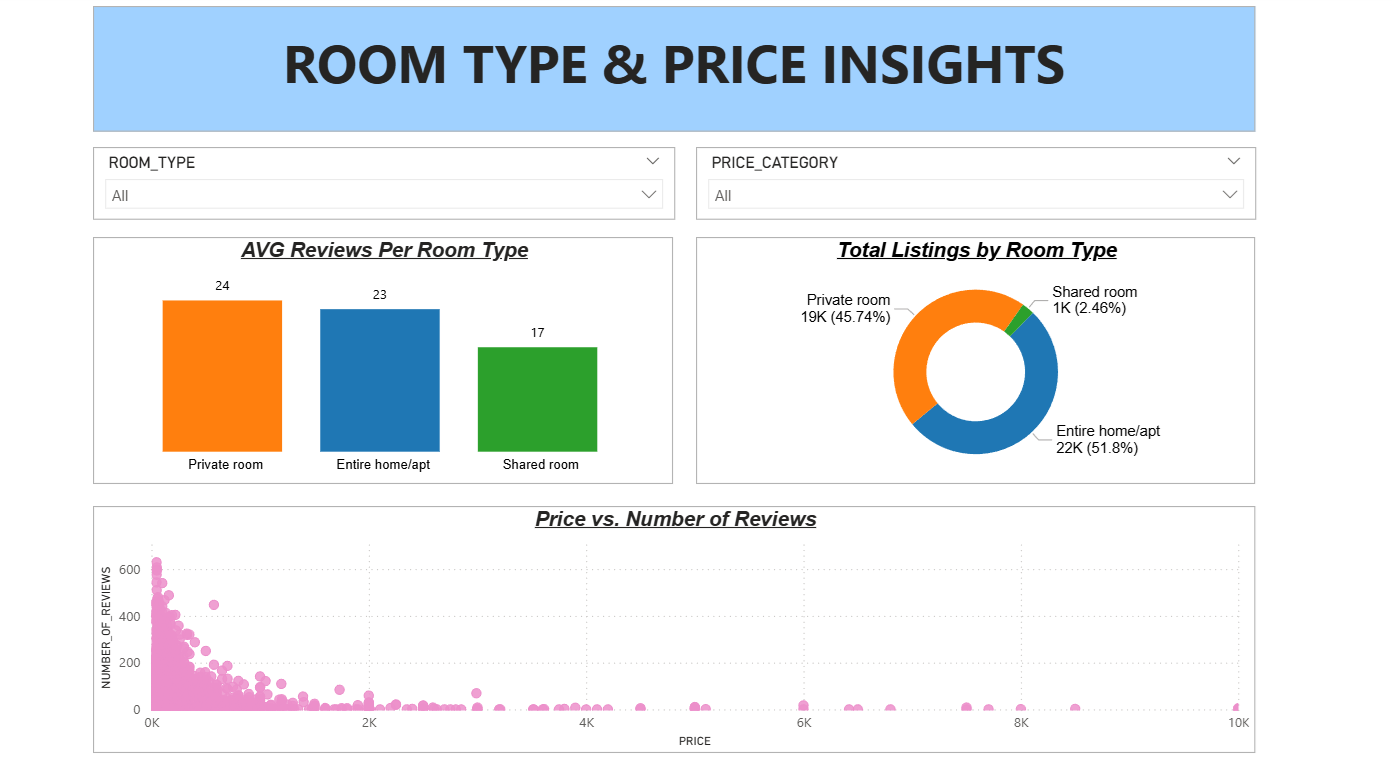

What the dashboard file says about the page in this screenshot:
{"tool":"powerbi","page":{"name":"ROOM TYPE & PRICE ANALYSIS","canvas":[1280,720],"ordinal":2},"visuals":[{"type":"columnChart","title":"AVG Reviews Per Room Type","fields":{"Category":["AIRBNB_LISTINGS.ROOM_TYPE"],"Y":["Avg(AIRBNB_LISTINGS.NUMBER_OF_REVIEWS)"]},"box":[93.8,219.2,526.5,223.7],"z":0},{"type":"donutChart","title":"Total Listings by Room Type","fields":{"Category":["AIRBNB_LISTINGS.ROOM_TYPE"],"Y":["CountNonNull(AIRBNB_LISTINGS.HOST_ID)"]},"box":[640.6,219.2,507.3,223.7],"z":1000},{"type":"scatterChart","title":"Price vs. Number of Reviews","fields":{"Y":["AIRBNB_LISTINGS.NUMBER_OF_REVIEWS"],"X":["AIRBNB_LISTINGS.PRICE"]},"box":[93.3,463.3,1054.4,224.4],"z":2000},{"type":"textbox","box":[93.3,10,1054.4,114.4],"z":3000},{"type":"textbox","box":[104.4,22.2,1032.2,91.1],"z":4000},{"type":"slicer","fields":{"Values":["AIRBNB_LISTINGS.ROOM_TYPE"]},"box":[93.3,137.8,527.8,65.6],"z":5000},{"type":"slicer","fields":{"Values":["AIRBNB_LISTINGS.PRICE_CATEGORY"]},"box":[640,137.8,507.8,65.6],"z":6000}]}

Visuals, with their boxes in screenshot pixels (x1, y1, x2, y2), scaled from the page's 1280x720 canvas onto the 1400x783 screenshot:
"AVG Reviews Per Room Type" columnChart: <region>103, 238, 678, 482</region>
"Total Listings by Room Type" donutChart: <region>701, 238, 1256, 482</region>
"Price vs. Number of Reviews" scatterChart: <region>102, 504, 1255, 748</region>
textbox: <region>102, 11, 1255, 135</region>
textbox: <region>114, 24, 1243, 123</region>
slicer - AIRBNB_LISTINGS.ROOM_TYPE: <region>102, 150, 679, 221</region>
slicer - AIRBNB_LISTINGS.PRICE_CATEGORY: <region>700, 150, 1255, 221</region>
